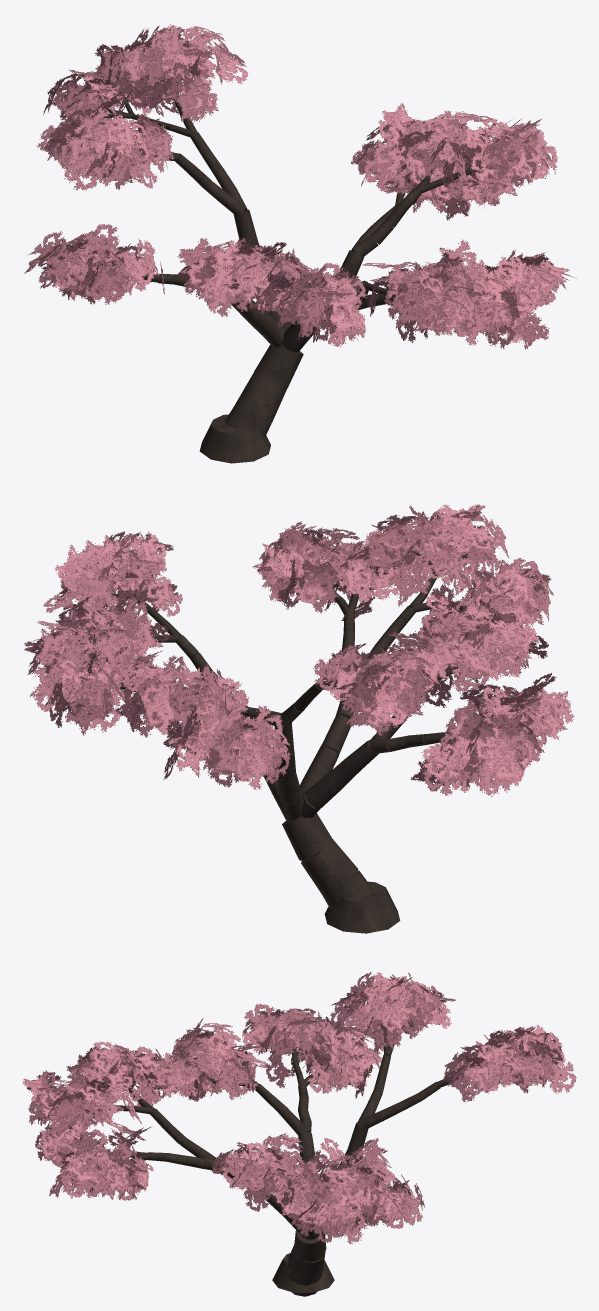
The model's file is Sakura_2.fbx.
3 renders of one model, top to bottom at view 1: azimuth 30°, elevation 25°; view 2: azimuth 150°, elevation 25°; view 3: azimuth 270°, elevation 25°, orthographic. The views are drawn at different scales.
Parts seen in each view (by area): view 1: Sakura_2_LOD0; view 2: Sakura_2_LOD0; view 3: Sakura_2_LOD0.
Part boxes in pixels (box(x1,y1,x2,y2)): Sakura_2_LOD0: box(24, 24, 576, 463); Sakura_2_LOD0: box(24, 504, 574, 933); Sakura_2_LOD0: box(22, 971, 576, 1296).
Size of what is drawn, in the model's own units: 11.89 by 7.64 by 13.68.
